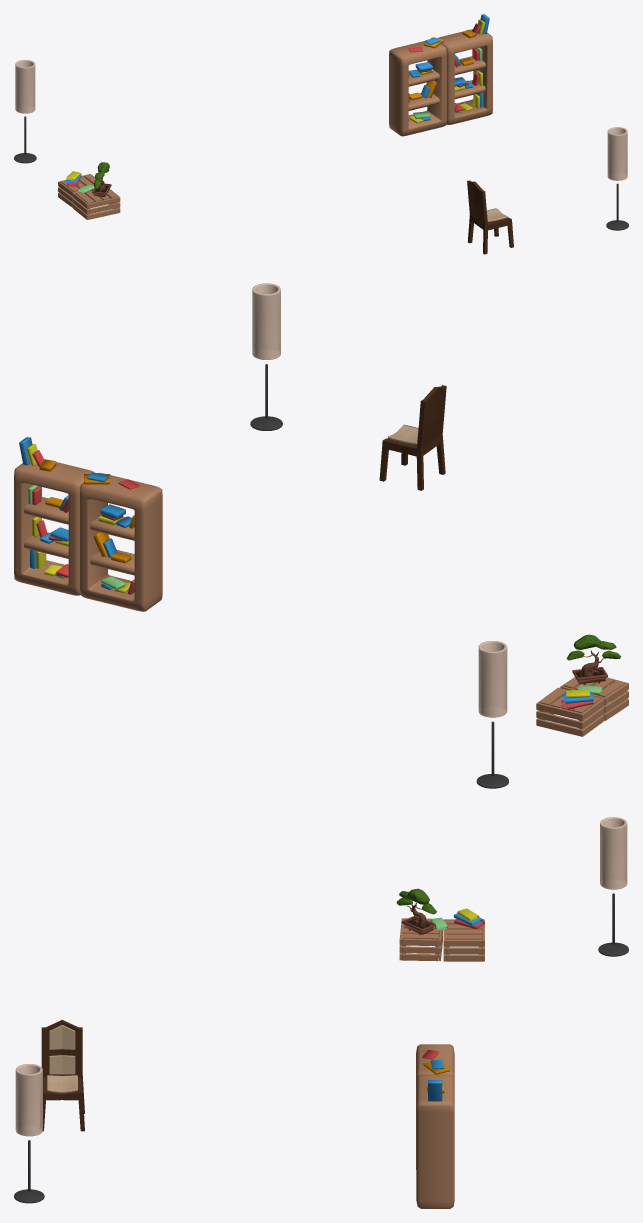
The picture shows the model from 3 angles, top to bottom: view 1: azimuth 30°, elevation 25°; view 2: azimuth 150°, elevation 25°; view 3: azimuth 270°, elevation 25°; orthographic projection. The views are drawn at different scales.
Parts seen in each view (by area): view 1: Deko_2x2 suburb I; view 2: Deko_2x2 suburb I; view 3: Deko_2x2 suburb I.
Part boxes in pixels (x1,y1,x2,y2): Deko_2x2 suburb I: (14,14,628,254); Deko_2x2 suburb I: (14,283,628,788); Deko_2x2 suburb I: (14,817,628,1208).
Size of the model in its own units: 7.95 by 1.75 by 7.62.
5 materials, 1 textured.
